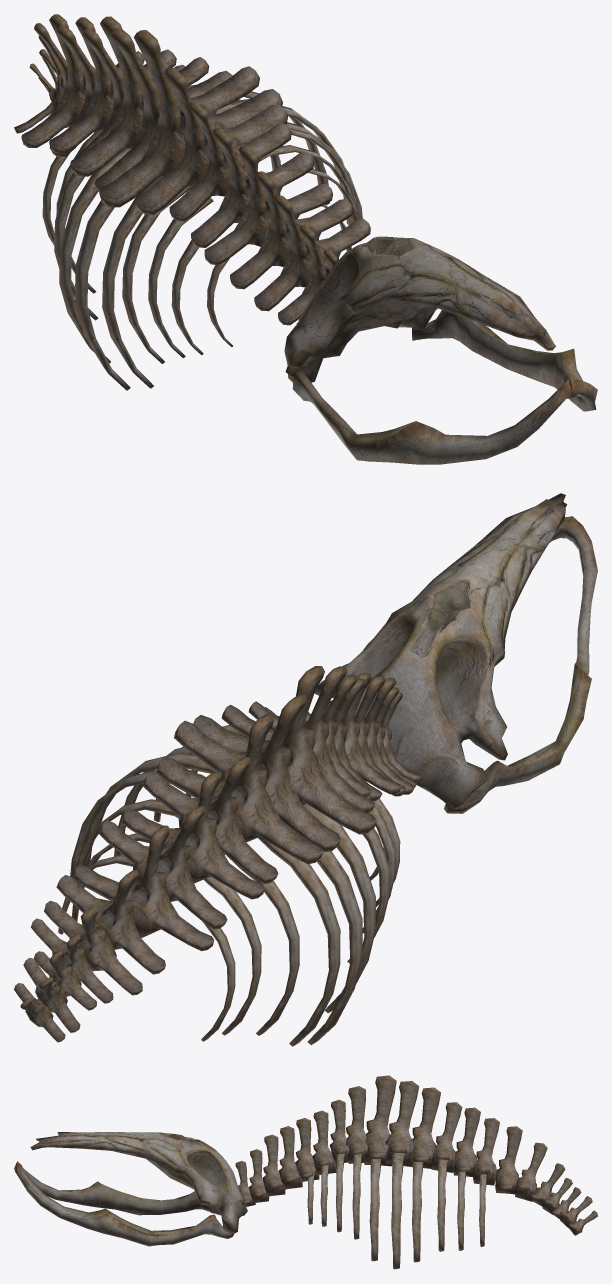
Rendered from huesos.glb.
3 views of the same model, one above another, from view 1: azimuth 30°, elevation 25°; view 2: azimuth 150°, elevation 25°; view 3: azimuth 270°, elevation 25° (orthographic). The views are drawn at different scales.
Parts seen in each view (by area): view 1: Object033, Plane001, Object034; view 2: Object033, Plane001, Object034; view 3: Object033, Plane001, Object034.
Part boxes in pixels (x1,y1,x2,y2): Object033: (14, 14, 370, 325); Plane001: (284, 236, 597, 464); Object034: (42, 84, 362, 390); Object033: (14, 666, 420, 1042); Plane001: (314, 493, 597, 813); Object034: (58, 725, 400, 1046); Object033: (235, 1075, 597, 1235); Plane001: (14, 1132, 247, 1246); Object034: (307, 1153, 486, 1269).
Bounding box in the file's own units: 1.92 × 2.41 × 6.53.
1 material, 1 textured.
